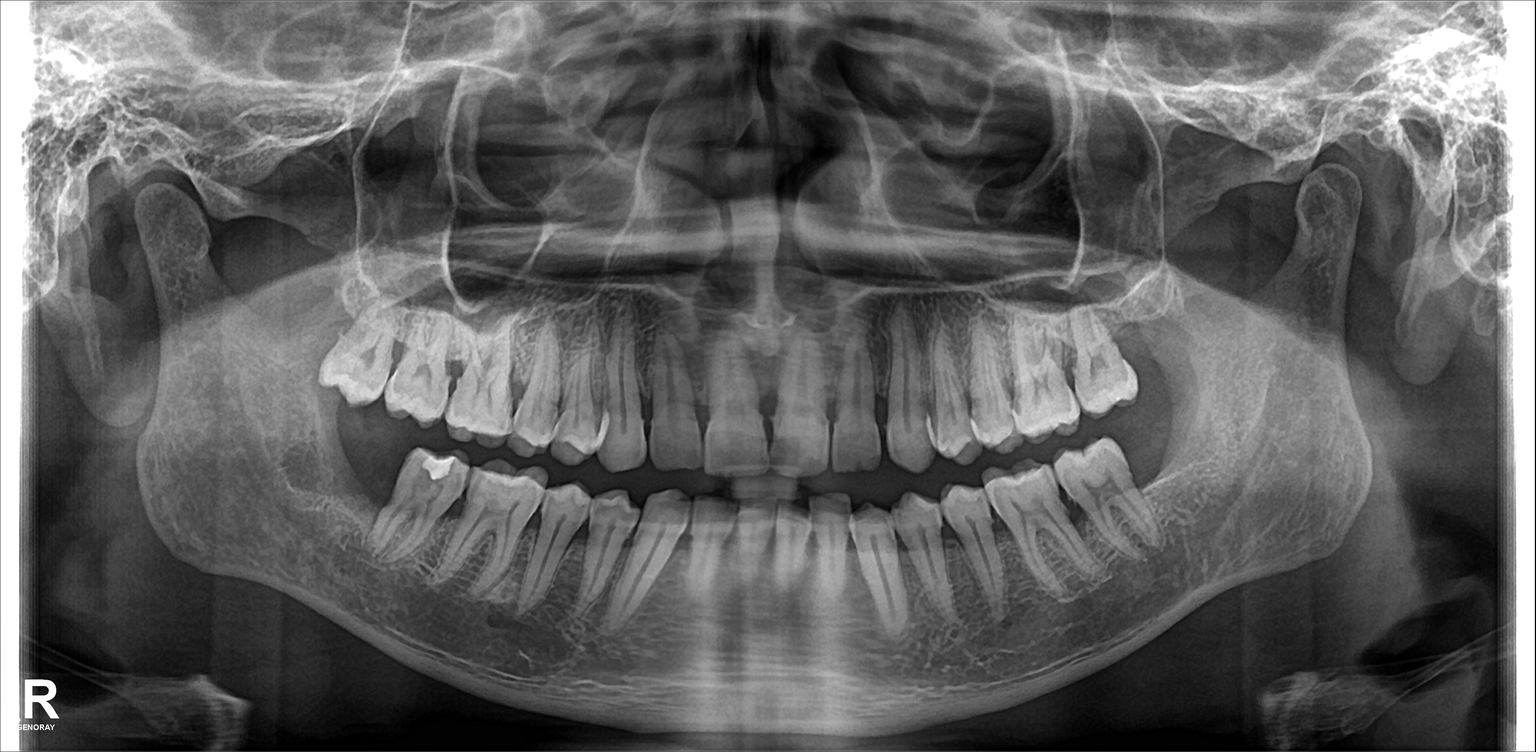Dental Caries: (439, 356, 469, 389)
Missing Tooth: (339, 426, 396, 526), (1117, 298, 1180, 387), (1130, 417, 1180, 495)
